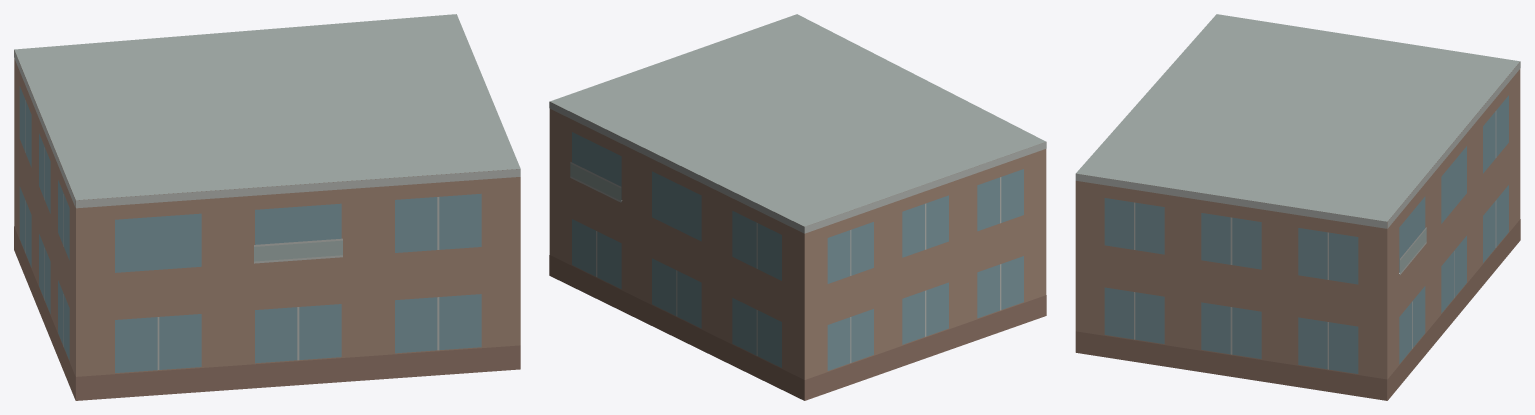
Rendered from survey-upis-33002654.glb.
The picture shows the model from 3 angles, left to right: view 1: azimuth 30°, elevation 25°; view 2: azimuth 150°, elevation 25°; view 3: azimuth 270°, elevation 25°; orthographic projection. The views are drawn at different scales.
Parts seen in each view (by area): view 1: survey-upis-33002654.tmp; view 2: survey-upis-33002654.tmp; view 3: survey-upis-33002654.tmp.
Part boxes in pixels (<box>): survey-upis-33002654.tmp: <box>14,14,520,400</box>; survey-upis-33002654.tmp: <box>549,14,1046,400</box>; survey-upis-33002654.tmp: <box>1075,14,1520,400</box>.
Bounding box in the file's own units: 15.18 × 6.1 × 13.73.
